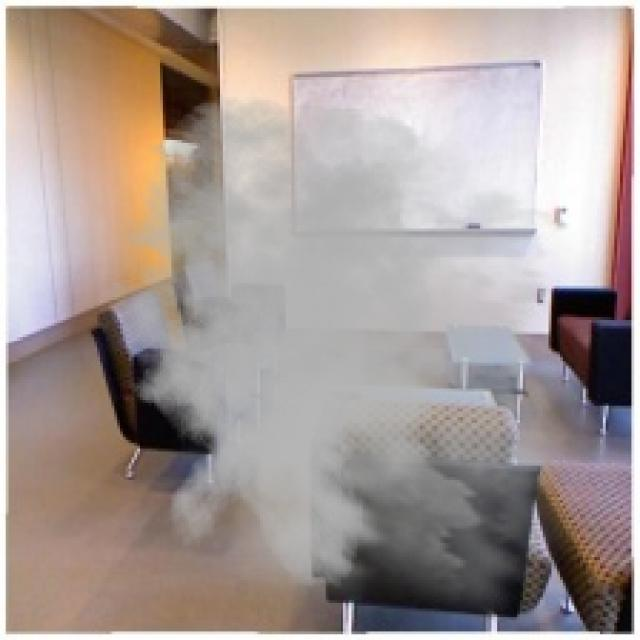smoke: (83, 94, 614, 637)
